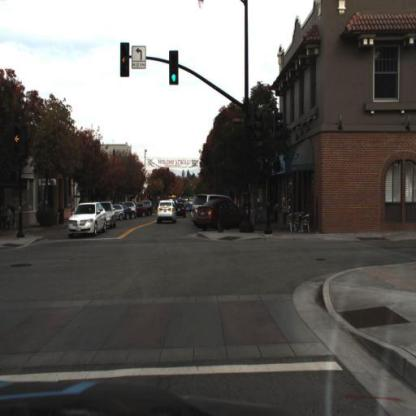car: (198, 199, 244, 231), (69, 201, 107, 238), (192, 195, 228, 226), (157, 199, 177, 223), (105, 204, 116, 228), (176, 199, 187, 220), (125, 205, 135, 223), (117, 204, 124, 220)
trafficLight: (120, 41, 129, 80)
trafficLight-Green: (169, 50, 180, 82)
trafficLight-RedLeft: (13, 121, 25, 167)
